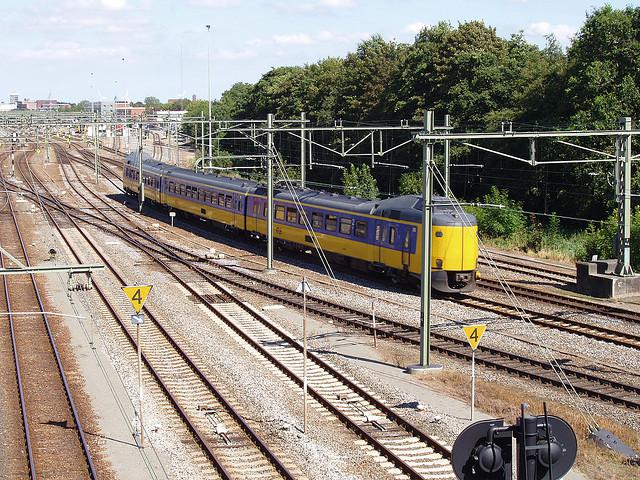Train: (128, 149, 477, 301)
